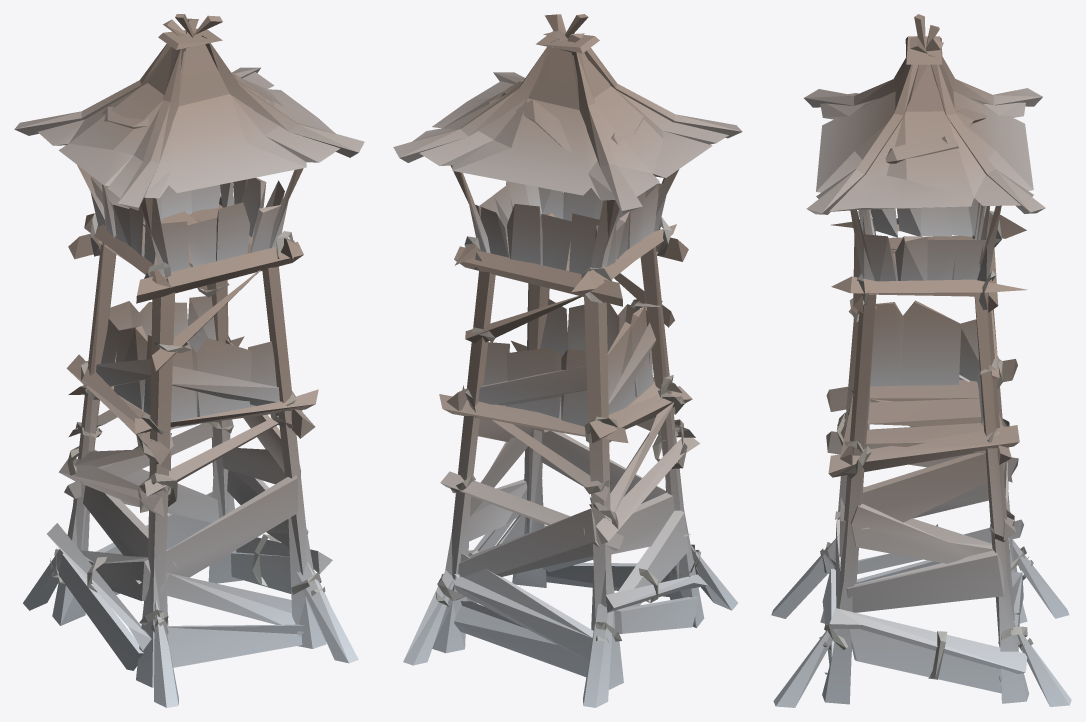
The model's file is Terrain_Stage2_Decoration_7.fbx.
The picture shows the model from 3 angles, left to right: view 1: azimuth 30°, elevation 25°; view 2: azimuth 150°, elevation 25°; view 3: azimuth 270°, elevation 25°; orthographic projection. The views are drawn at different scales.
Visible parts, largest first — view 1: terrain_tower_402_LOD1; view 2: terrain_tower_402_LOD1; view 3: terrain_tower_402_LOD1.
Part boxes in pixels (left/top/right/bottom): terrain_tower_402_LOD1: left=14, top=14, right=364, bottom=707; terrain_tower_402_LOD1: left=393, top=14, right=742, bottom=707; terrain_tower_402_LOD1: left=771, top=14, right=1071, bottom=707.
Size of the model in its own units: 948 by 2240 by 960.
1 material, 1 textured.
